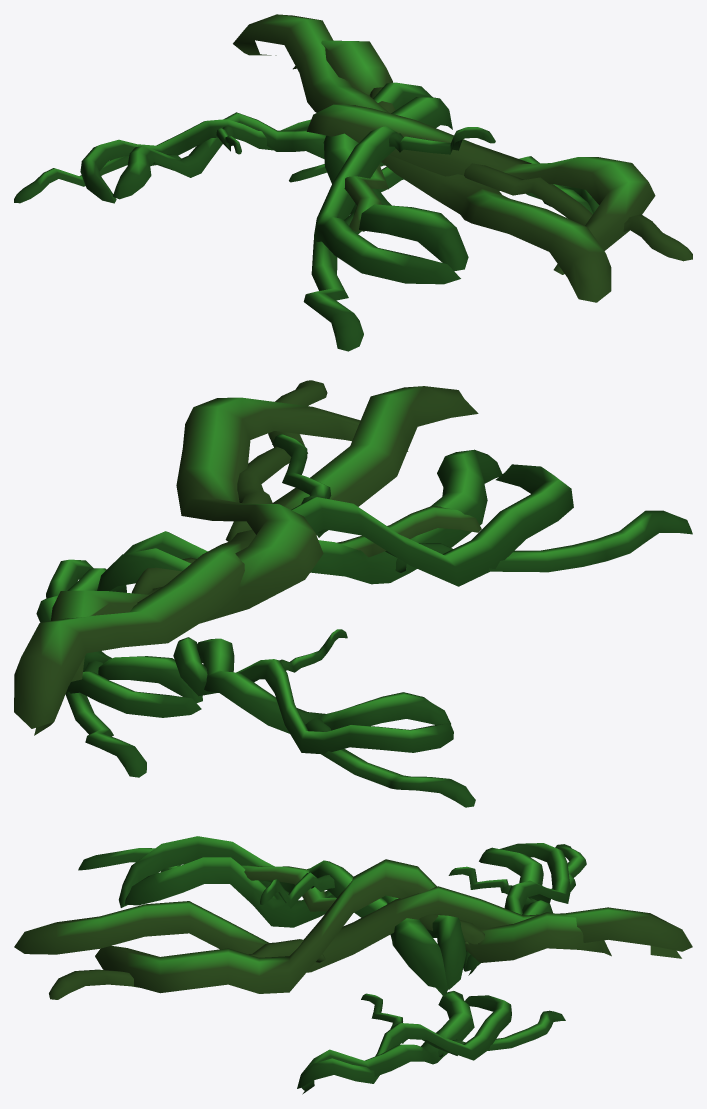
File: vine8.fbx
3 views of the same model, one above another, from view 1: azimuth 30°, elevation 25°; view 2: azimuth 150°, elevation 25°; view 3: azimuth 270°, elevation 25° (orthographic). The views are drawn at different scales.
Parts seen in each view (by area): view 1: pCube164; view 2: pCube164; view 3: pCube164.
Part boxes in pixels (x1,y1,x2,y2): pCube164: (14, 14, 692, 351); pCube164: (14, 380, 692, 807); pCube164: (14, 836, 692, 1094).
Size of the model in its own units: 106 by 34.69 by 142.
